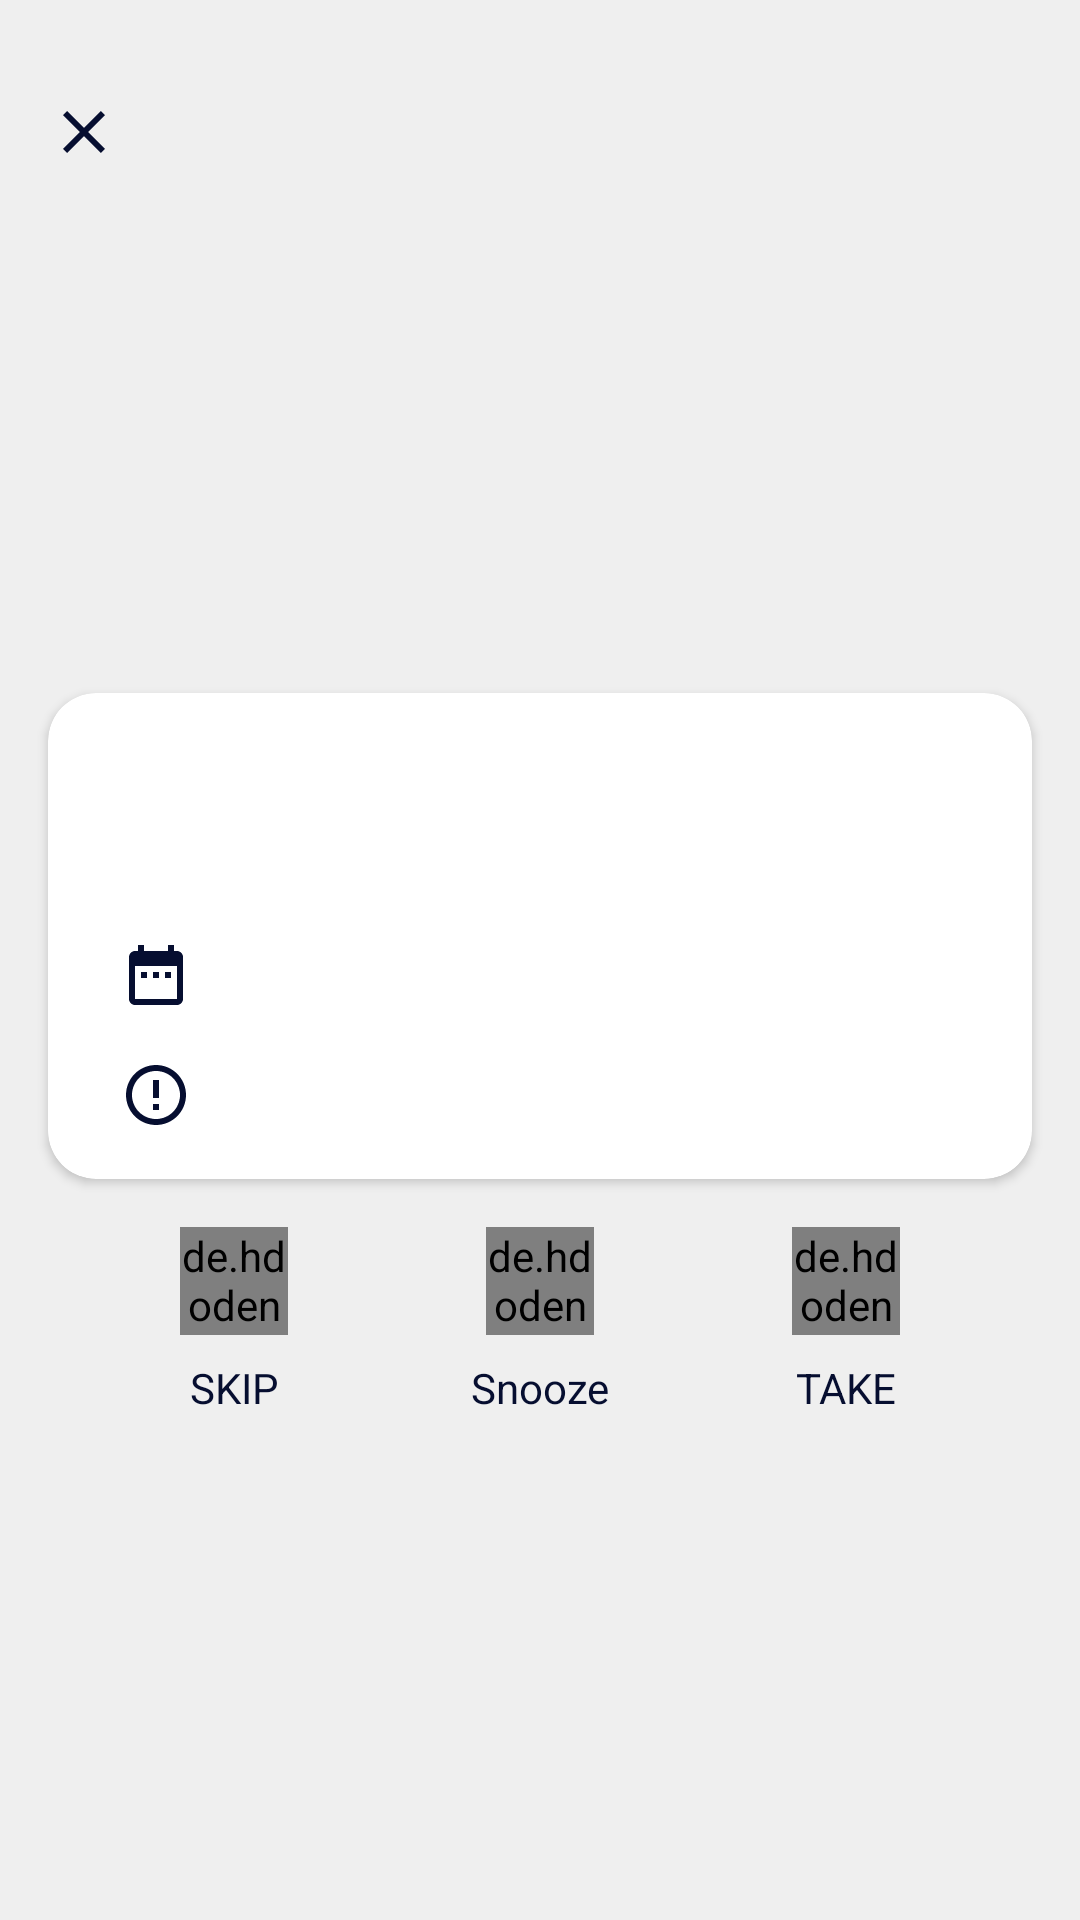

Icon click points for this 1080x1920 phone screenshot, format [x,y]:
clear: [84,132]
date range: [156,975]
error: [156,1095]
